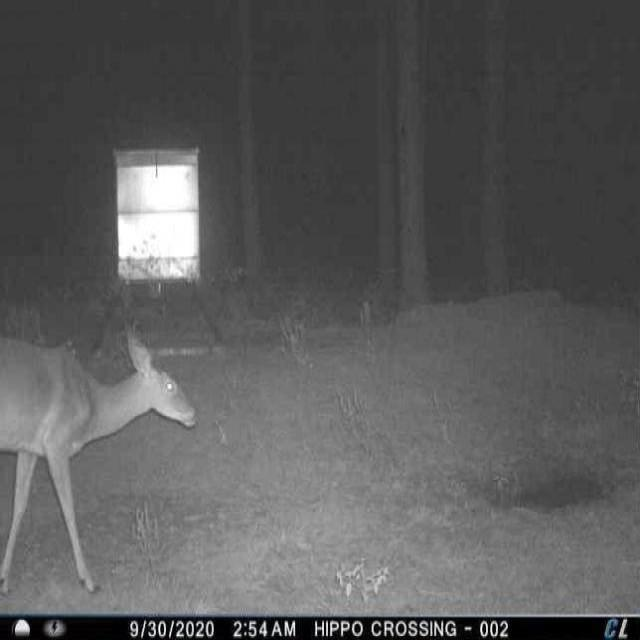deer: (1, 317, 204, 596)
